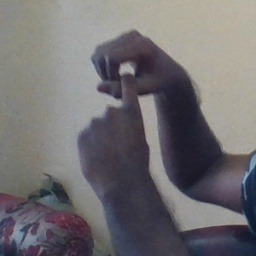Q: (76, 28, 171, 167)
